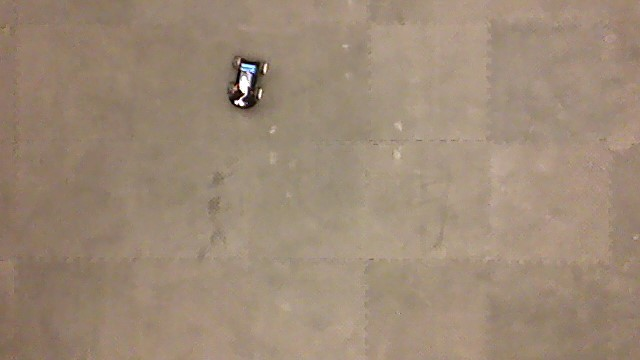Agent: (225, 54, 270, 111)
